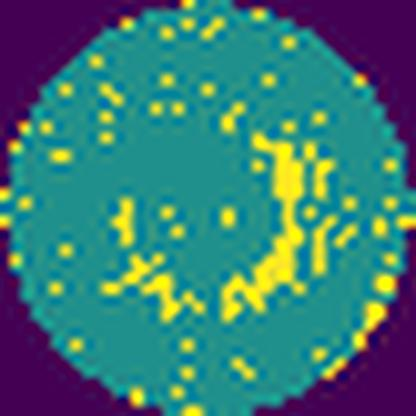Donut: (93, 113, 360, 330)
